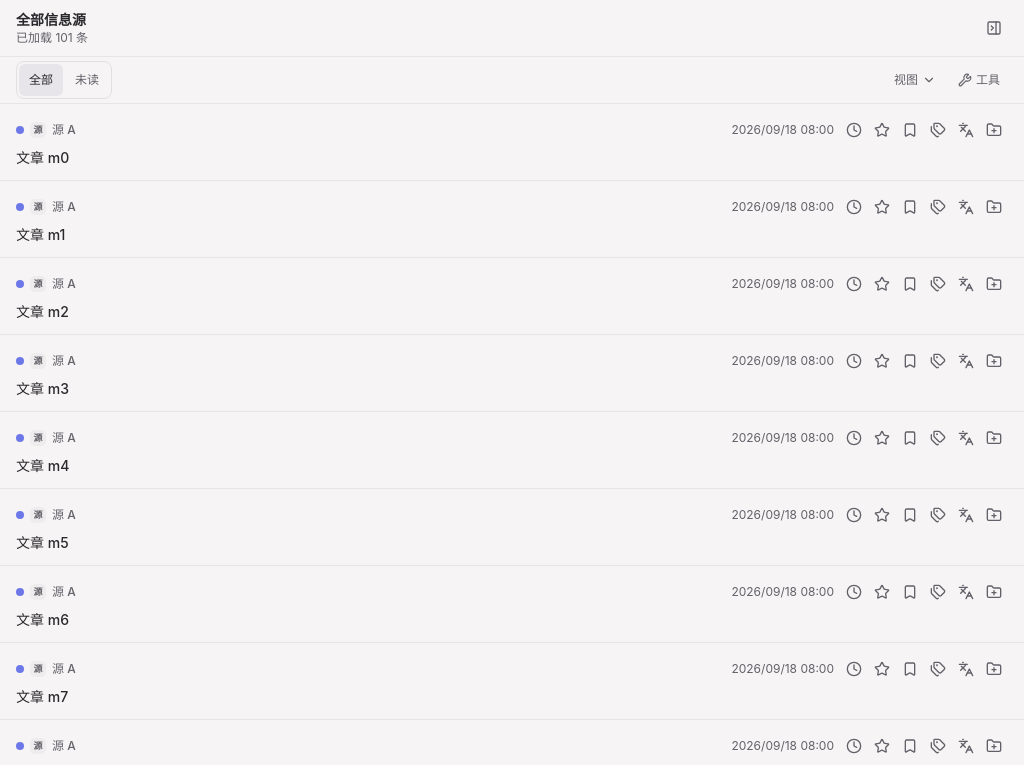
it: F07 多选批量 › 批量上限 100：全选超过上限后动作禁用并提示
Click the button "视图". click: (915, 80)
box: [886,64,944,96]
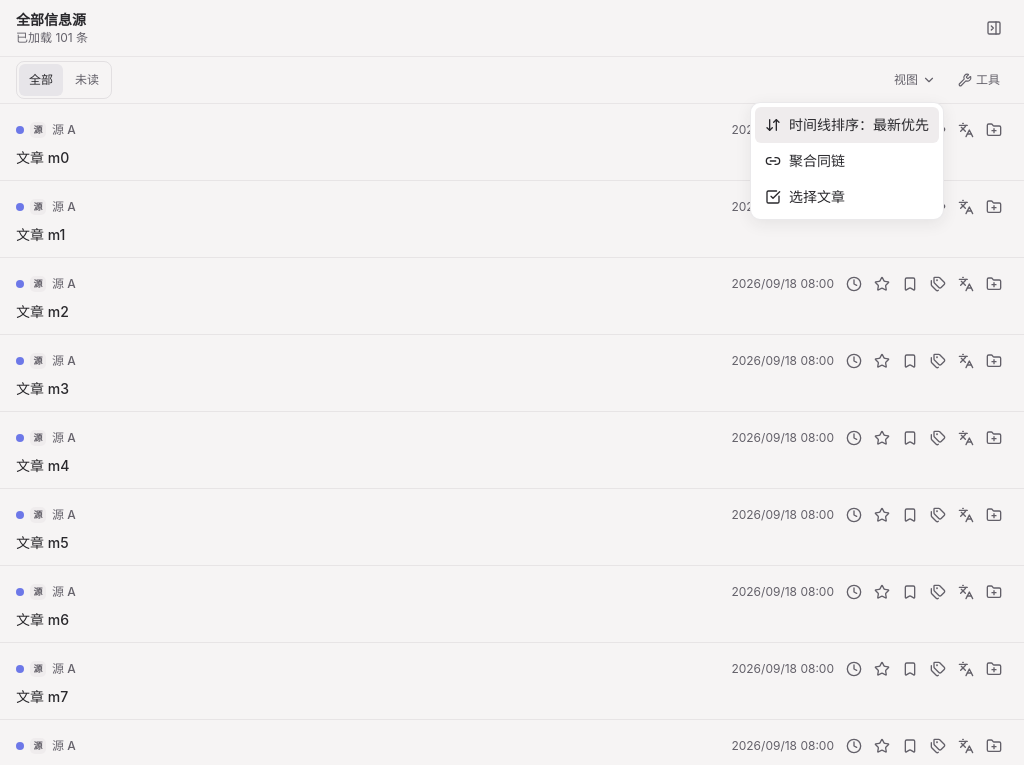
Click the menu item with test id "enter-select-mode". click: (805, 196)
box: [765,188,845,205]
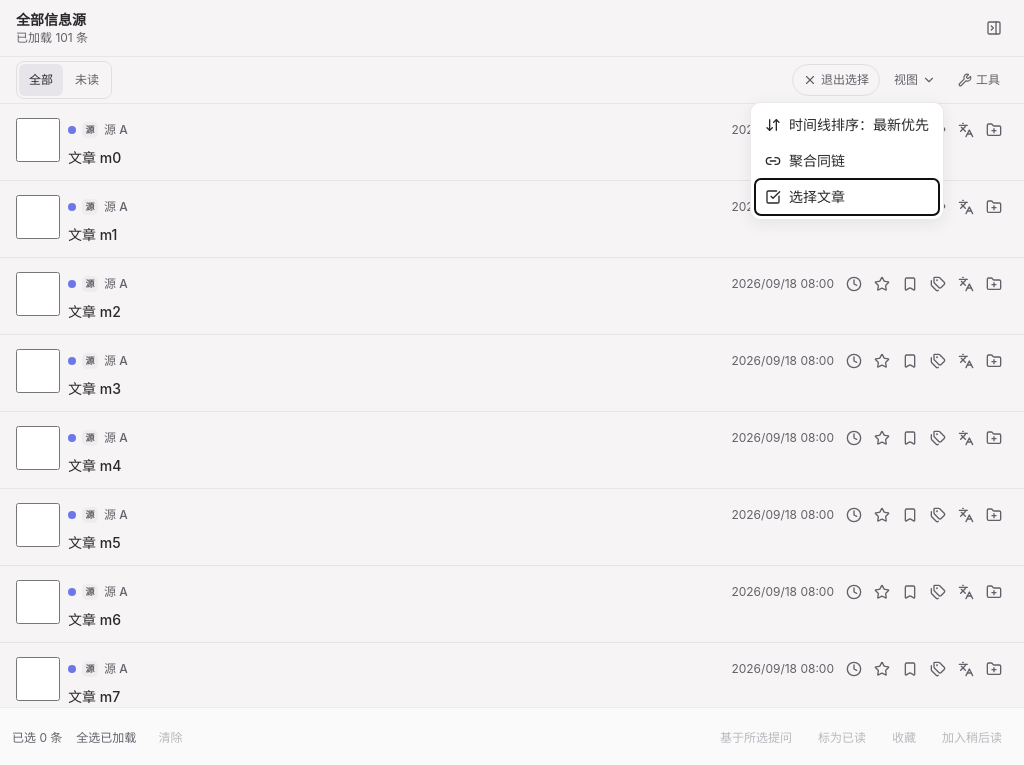
Click the button "全选已加载". click: (106, 738)
box: [68,716,144,760]
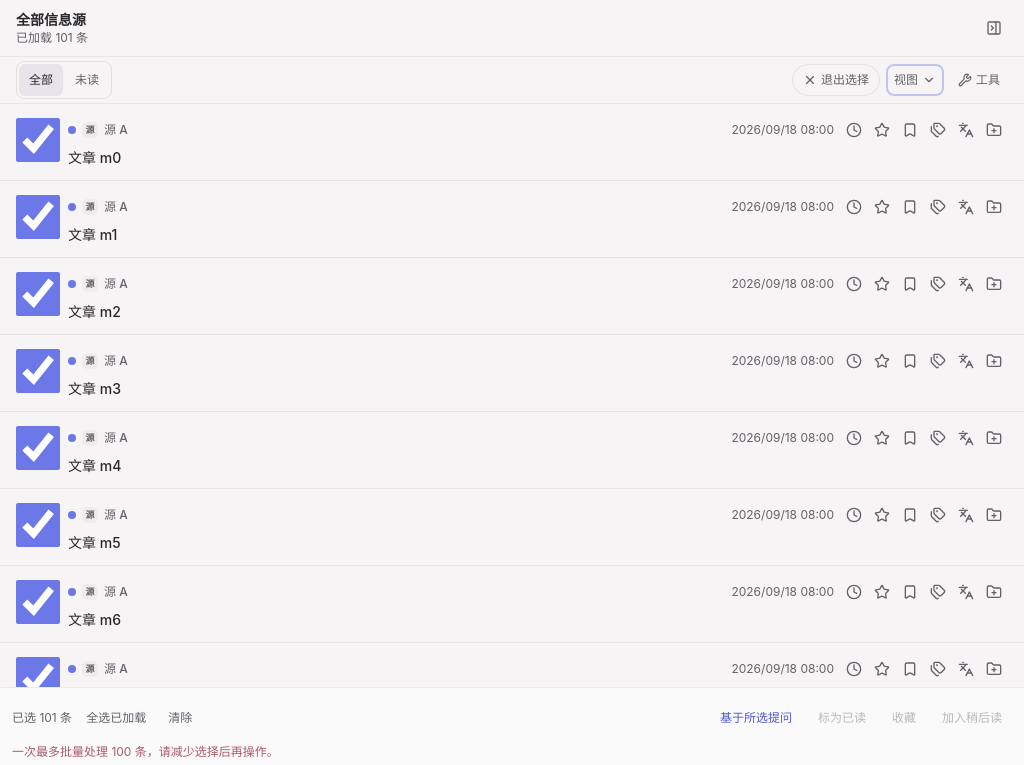
Expected: the button with test id "batch-read" is disabled, [808,696,876,740]
Expected: the text with test id "selected-count" reads "已选 101 条", [12,710,72,726]
Expected: the message shows "一次最多批量处理 100 条", [12,744,279,759]
